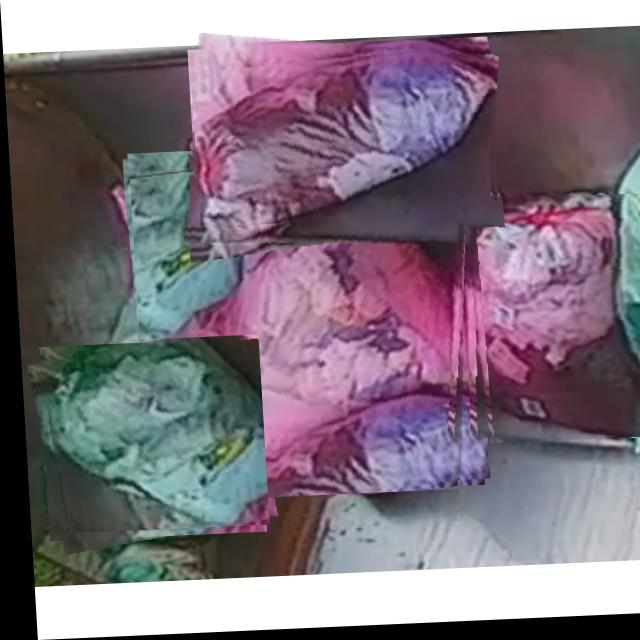other_trashbag: (138, 154, 460, 503), (194, 57, 493, 228), (39, 339, 261, 528), (466, 202, 640, 443)
